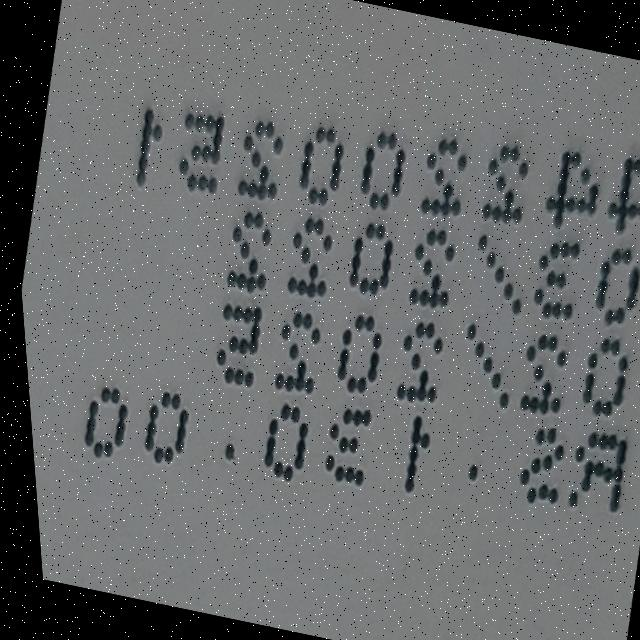sentence: (73, 361, 621, 520), (129, 86, 640, 242), (210, 292, 622, 424), (224, 200, 457, 332), (459, 229, 636, 338)
